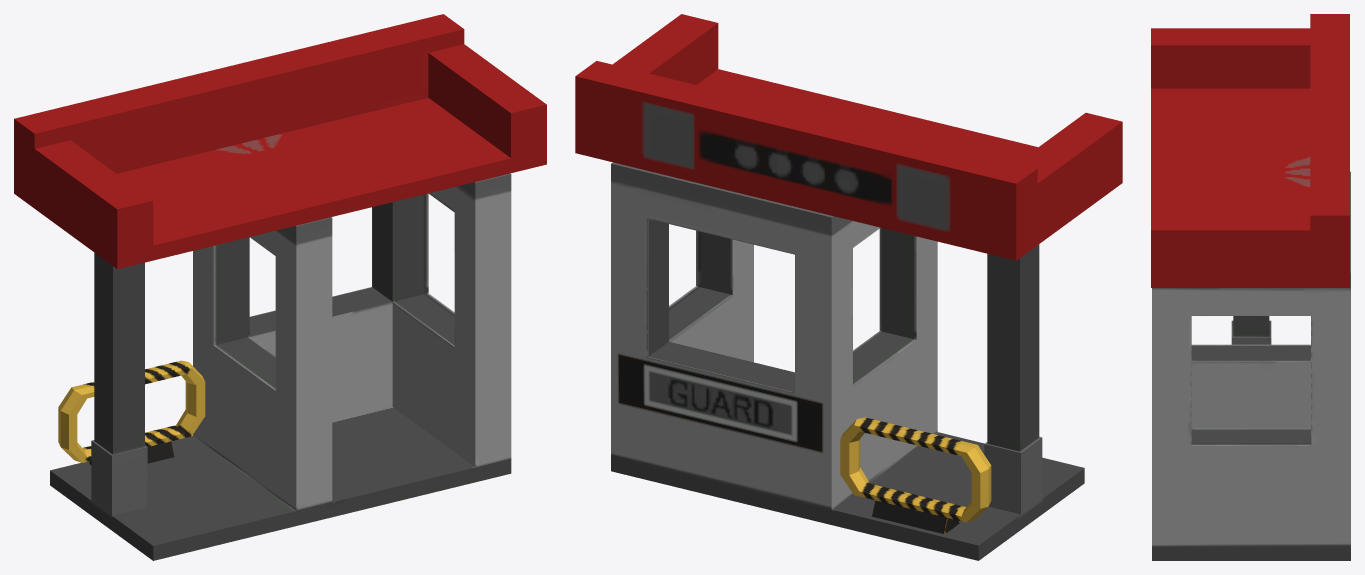
File: GuardHouse.fbx
3 views of the same model, side by side, from view 1: azimuth 30°, elevation 25°; view 2: azimuth 150°, elevation 25°; view 3: azimuth 270°, elevation 25° (orthographic). The views are drawn at different scales.
Visible parts, largest first — view 1: GuardHouse_Base, GuardHouse_Roof, GuardHouse_Barrier; view 2: GuardHouse_Base, GuardHouse_Roof, GuardHouse_Barrier; view 3: GuardHouse_Roof, GuardHouse_Base.
Part boxes in pixels (x1,y1,x2,y2): GuardHouse_Base: [50, 173, 511, 560]; GuardHouse_Roof: [14, 14, 546, 269]; GuardHouse_Barrier: [58, 360, 205, 464]; GuardHouse_Base: [611, 162, 1084, 560]; GuardHouse_Roof: [575, 14, 1122, 260]; GuardHouse_Barrier: [840, 417, 991, 534]; GuardHouse_Roof: [1151, 14, 1349, 287]; GuardHouse_Base: [1152, 171, 1350, 560].
Bounding box in the file's own units: 259 × 217 × 108.
